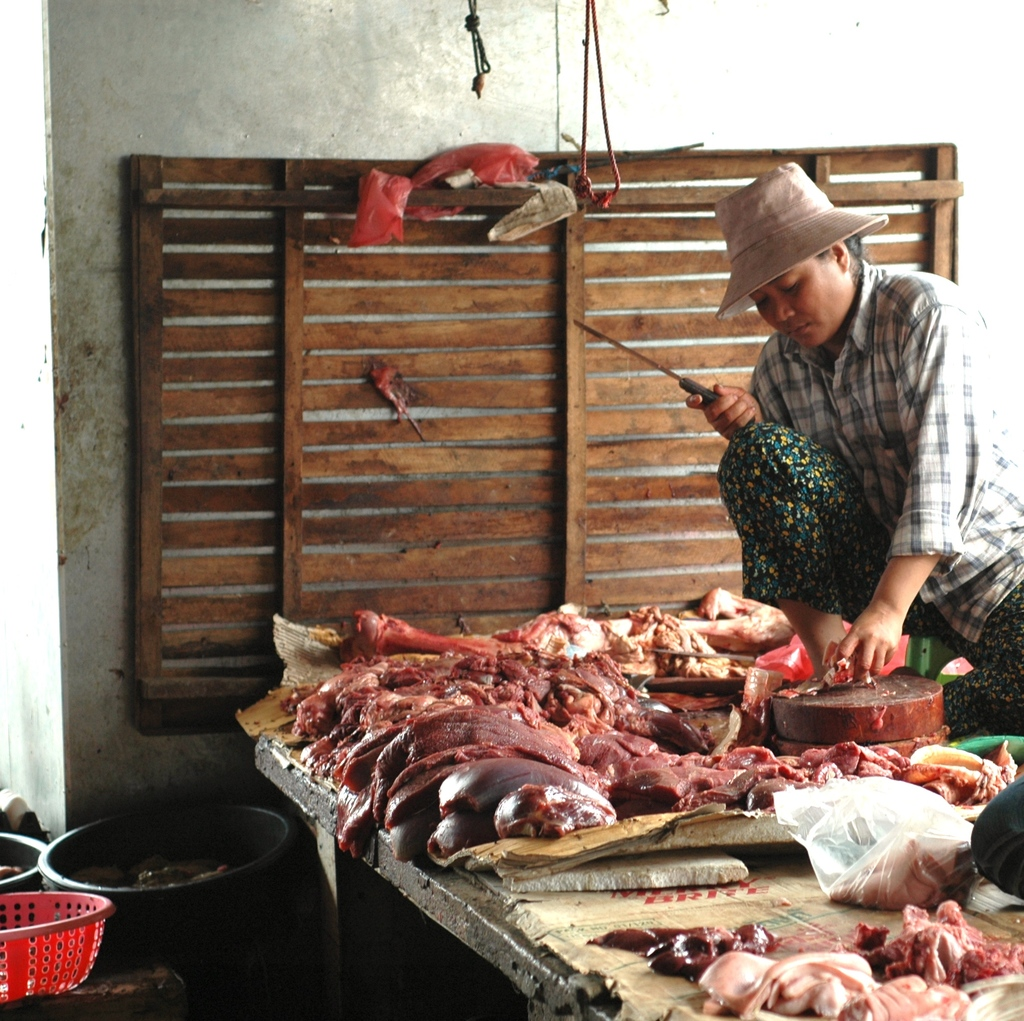Person: (684, 161, 1024, 742)
